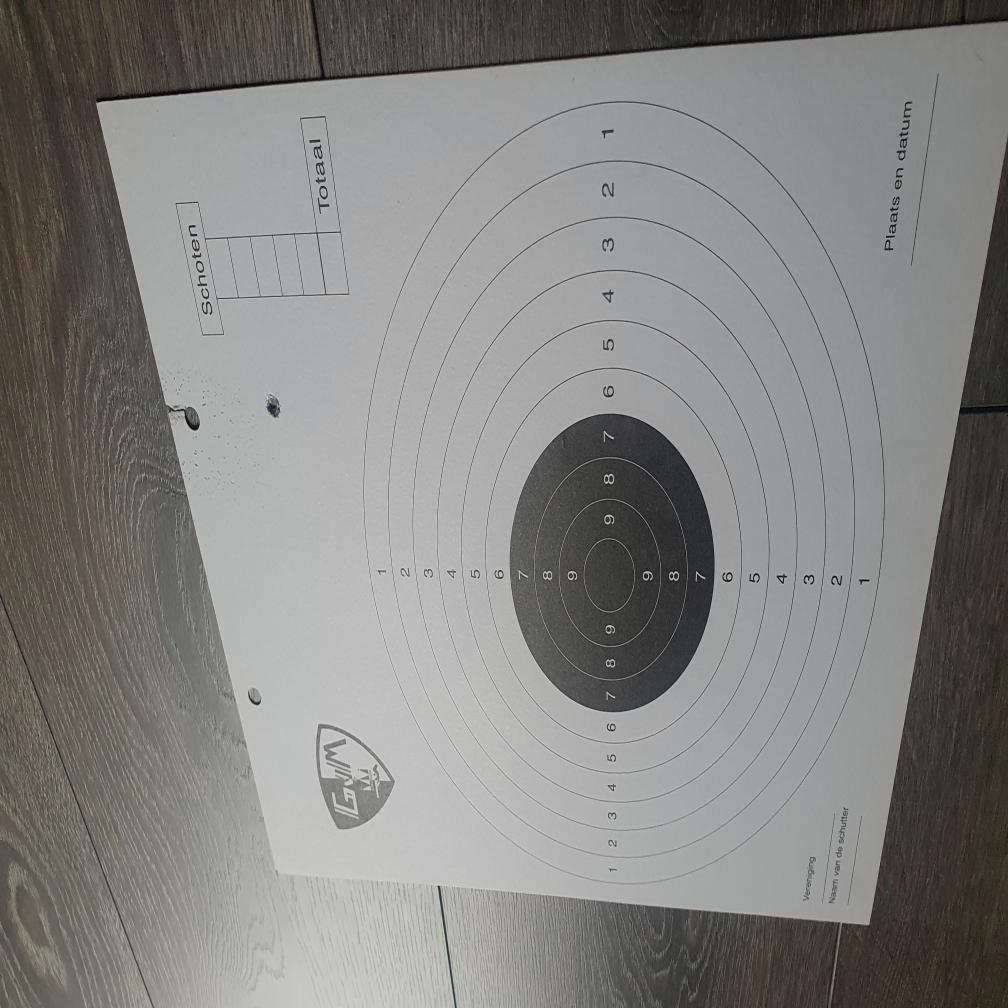0: (265, 390, 281, 426)
Target: (360, 85, 886, 898)
black_contour: (510, 412, 714, 714)
